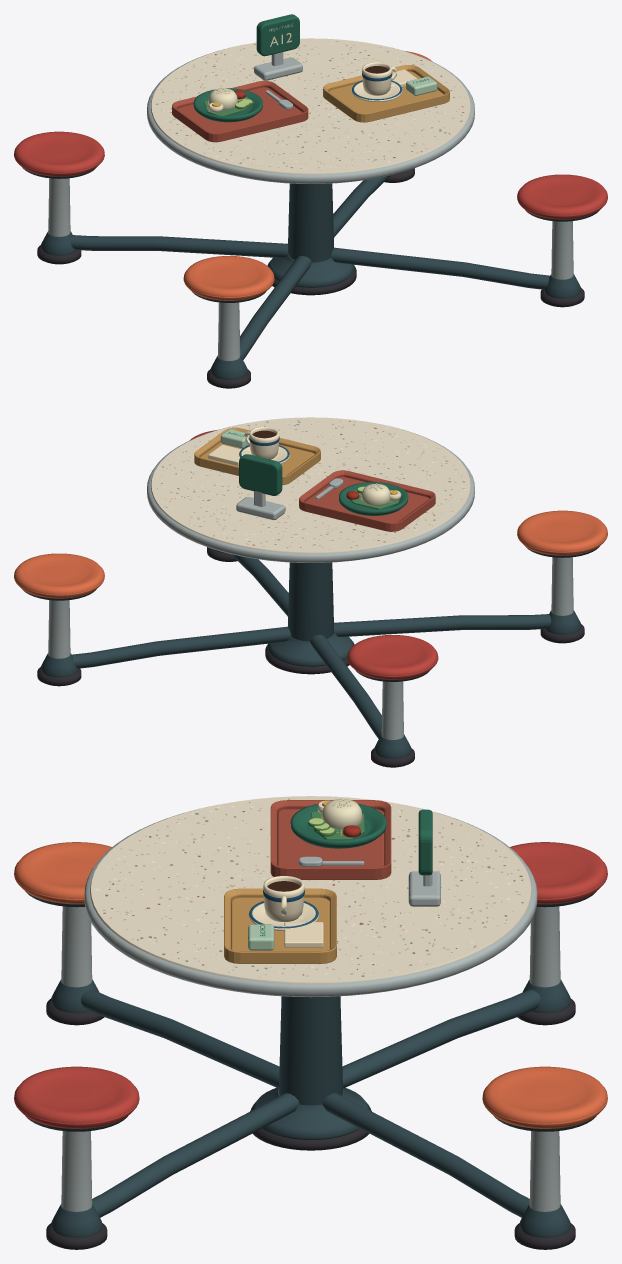
The picture shows the model from 3 angles, top to bottom: view 1: azimuth 30°, elevation 25°; view 2: azimuth 150°, elevation 25°; view 3: azimuth 270°, elevation 25°; orthographic projection. The views are drawn at different scales.
Parts seen in each view (by area): view 1: Serambi Food Court Table A12 - Table Terrazzo and Frame, Serambi Food Court Table A12 - Tabletop Props, Serambi Food Court Table A12 - Four Stool Shells; view 2: Serambi Food Court Table A12 - Table Terrazzo and Frame, Serambi Food Court Table A12 - Tabletop Props, Serambi Food Court Table A12 - Four Stool Shells; view 3: Serambi Food Court Table A12 - Table Terrazzo and Frame, Serambi Food Court Table A12 - Four Stool Shells, Serambi Food Court Table A12 - Tabletop Props.
Boxes of the visible parts, bbox=[...] form: Serambi Food Court Table A12 - Table Terrazzo and Frame: bbox=[37, 38, 584, 388]; Serambi Food Court Table A12 - Tabletop Props: bbox=[172, 14, 449, 142]; Serambi Food Court Table A12 - Four Stool Shells: bbox=[14, 51, 607, 302]; Serambi Food Court Table A12 - Table Terrazzo and Frame: bbox=[37, 417, 584, 767]; Serambi Food Court Table A12 - Tabletop Props: bbox=[194, 427, 435, 531]; Serambi Food Court Table A12 - Four Stool Shells: bbox=[14, 430, 607, 681]; Serambi Food Court Table A12 - Table Terrazzo and Frame: bbox=[46, 796, 575, 1249]; Serambi Food Court Table A12 - Four Stool Shells: bbox=[14, 842, 607, 1131]; Serambi Food Court Table A12 - Tabletop Props: bbox=[224, 798, 440, 963].
Bounding box in the file's own units: 1.87 × 0.982 × 1.69.
